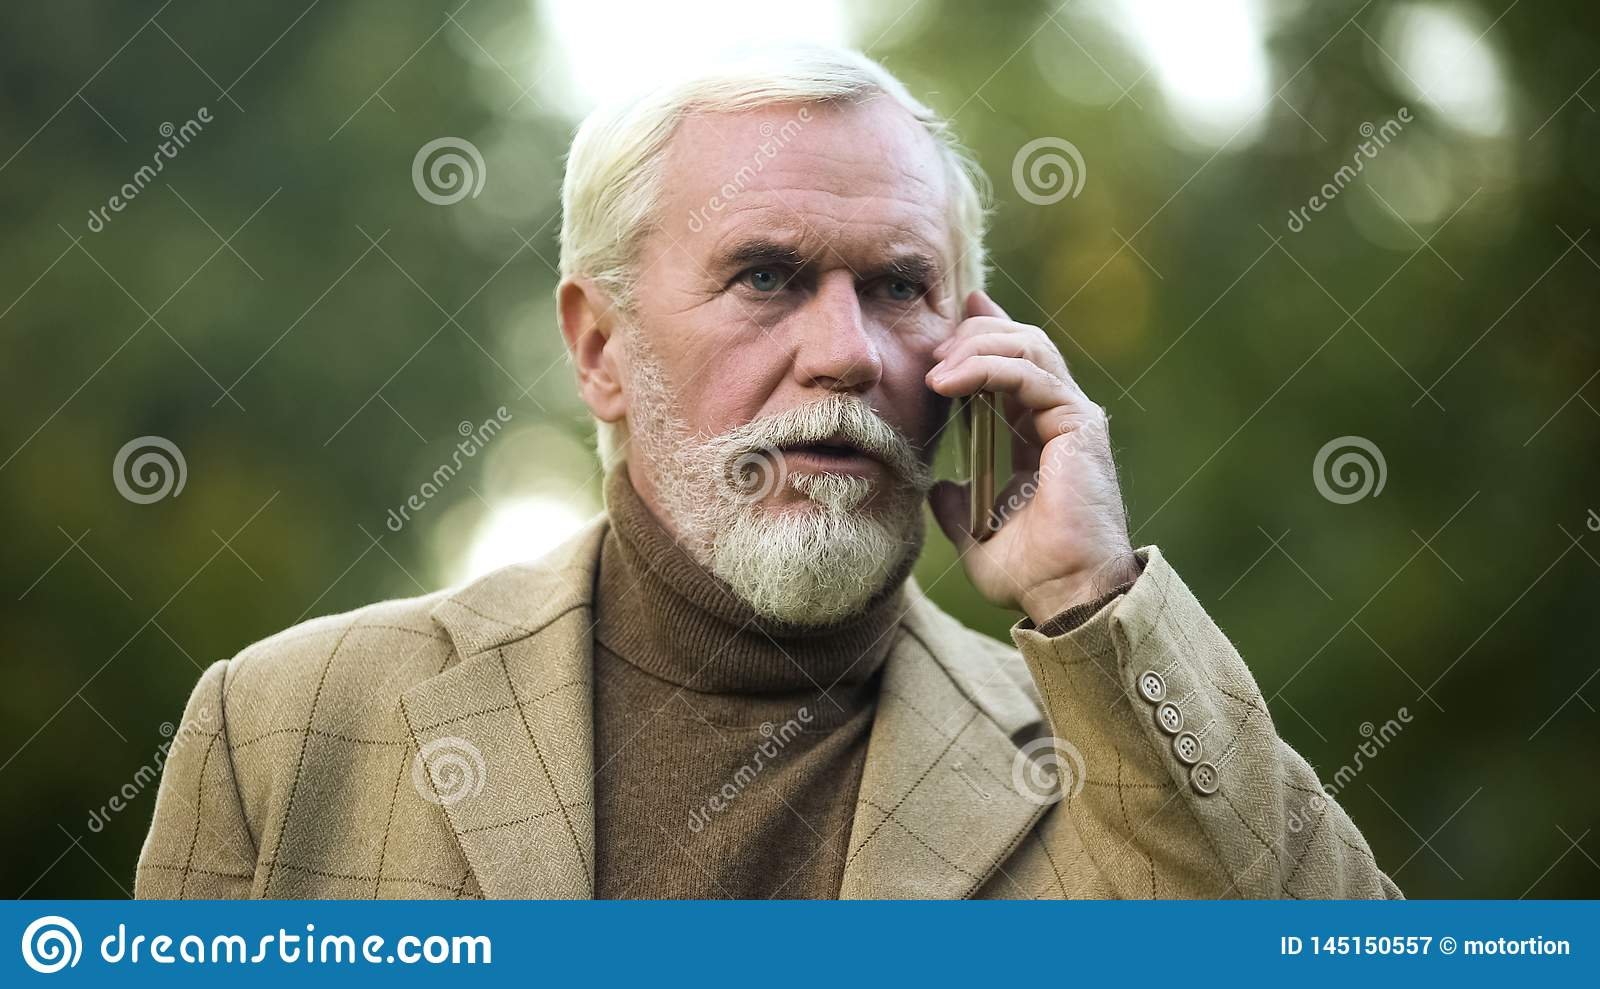phone: (947, 358, 1005, 540)
talk: (683, 196, 1134, 619)
